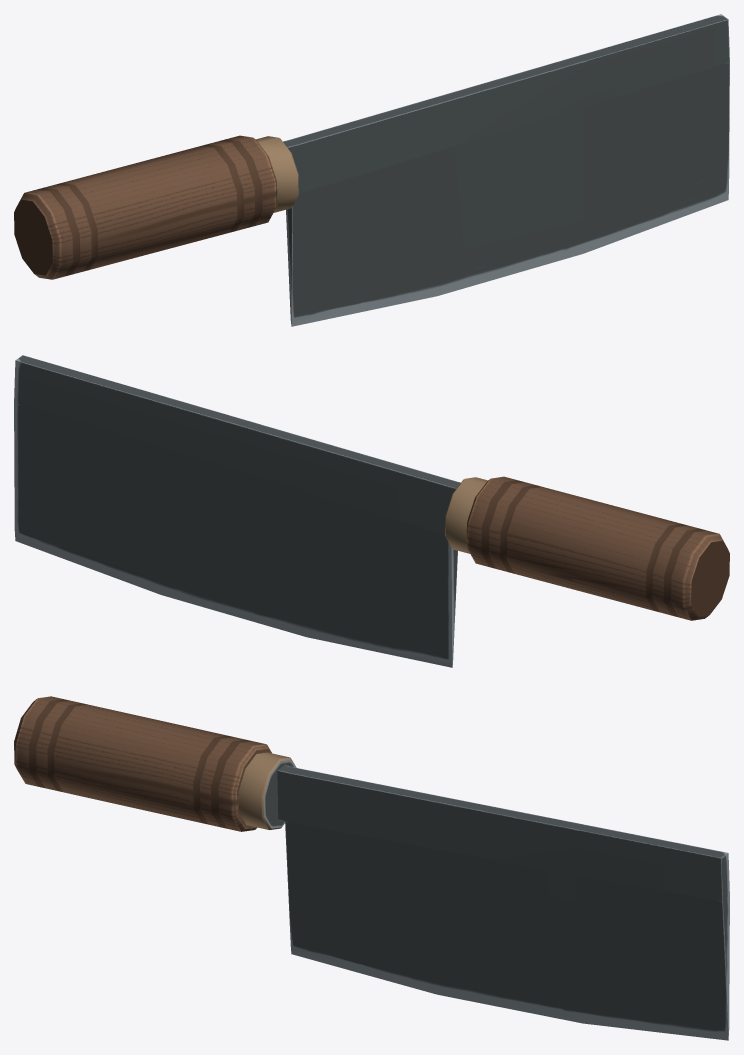
File: knife.fbx
3 renders of one model, top to bottom at view 1: azimuth 30°, elevation 25°; view 2: azimuth 150°, elevation 25°; view 3: azimuth 330°, elevation 25°, orthographic.
Parts seen in each view (by area): view 1: knife; view 2: knife; view 3: knife.
Part boxes in pixels (x1=…): knife: x1=14, y1=14, x2=729, y2=326; knife: x1=14, y1=355, x2=729, y2=667; knife: x1=14, y1=696, x2=729, y2=1040.
Size of the model in its own units: 200 by 57.46 by 21.78.
Materials: 1 (1 with a texture image).
